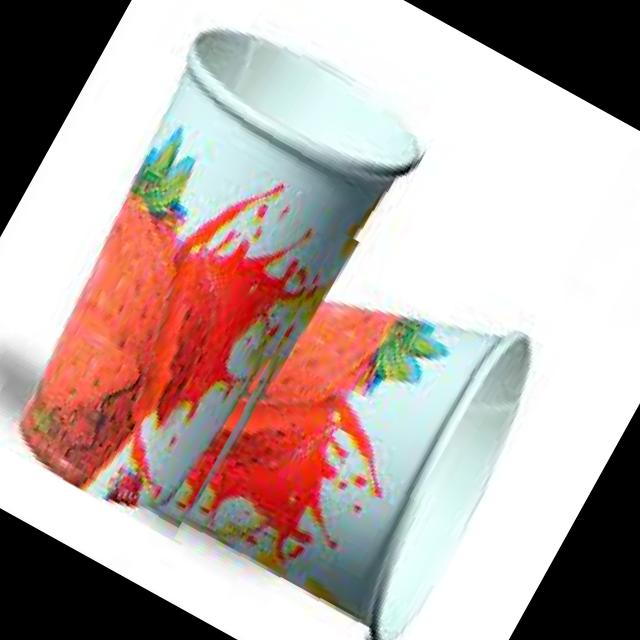PaperCardboard: (16, 26, 420, 511), (183, 297, 532, 640)
